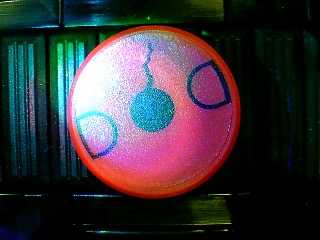CRACK: (67, 25, 241, 198)
